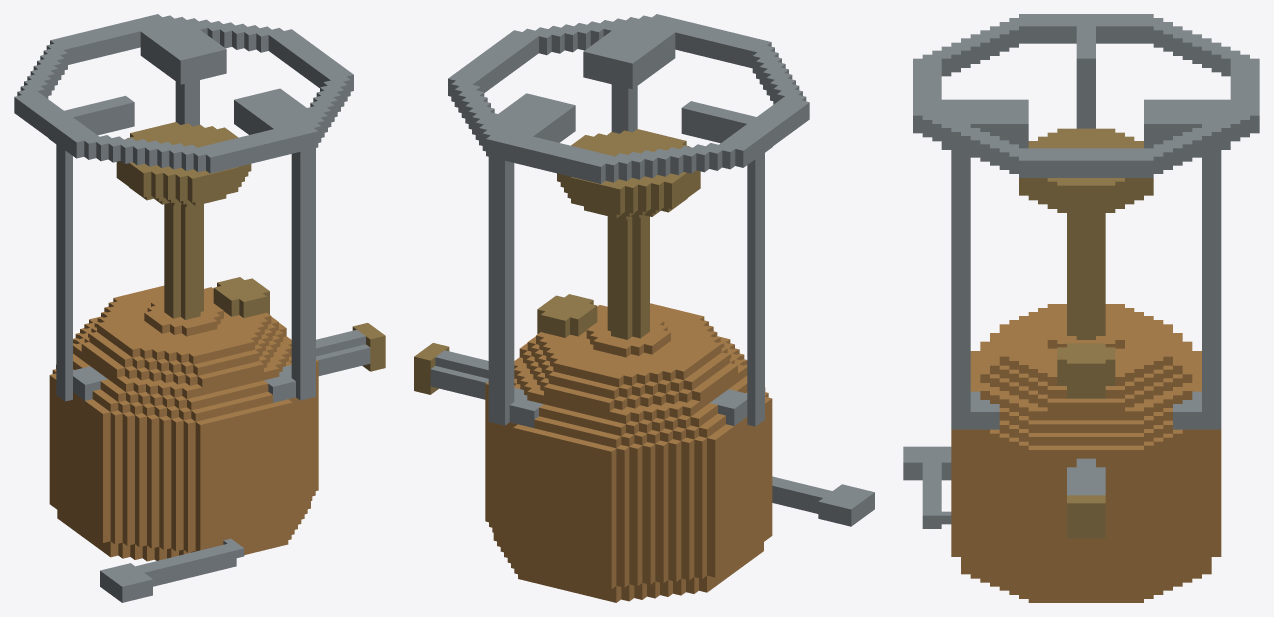
Rendered from gasoline_cooker.glb.
The picture shows the model from 3 angles, left to right: view 1: azimuth 30°, elevation 25°; view 2: azimuth 150°, elevation 25°; view 3: azimuth 270°, elevation 25°; orthographic projection. The views are drawn at different scales.
Visible parts, largest first — view 1: gasoline_cooker:compound; view 2: gasoline_cooker:compound; view 3: gasoline_cooker:compound.
Boxes of the visible parts, left/top/right/bottom form: gasoline_cooker:compound: left=14, top=14, right=385, bottom=602; gasoline_cooker:compound: left=414, top=14, right=874, bottom=602; gasoline_cooker:compound: left=903, top=14, right=1259, bottom=602.
Bounding box in the file's own units: 0.176 × 0.212 × 0.148.
